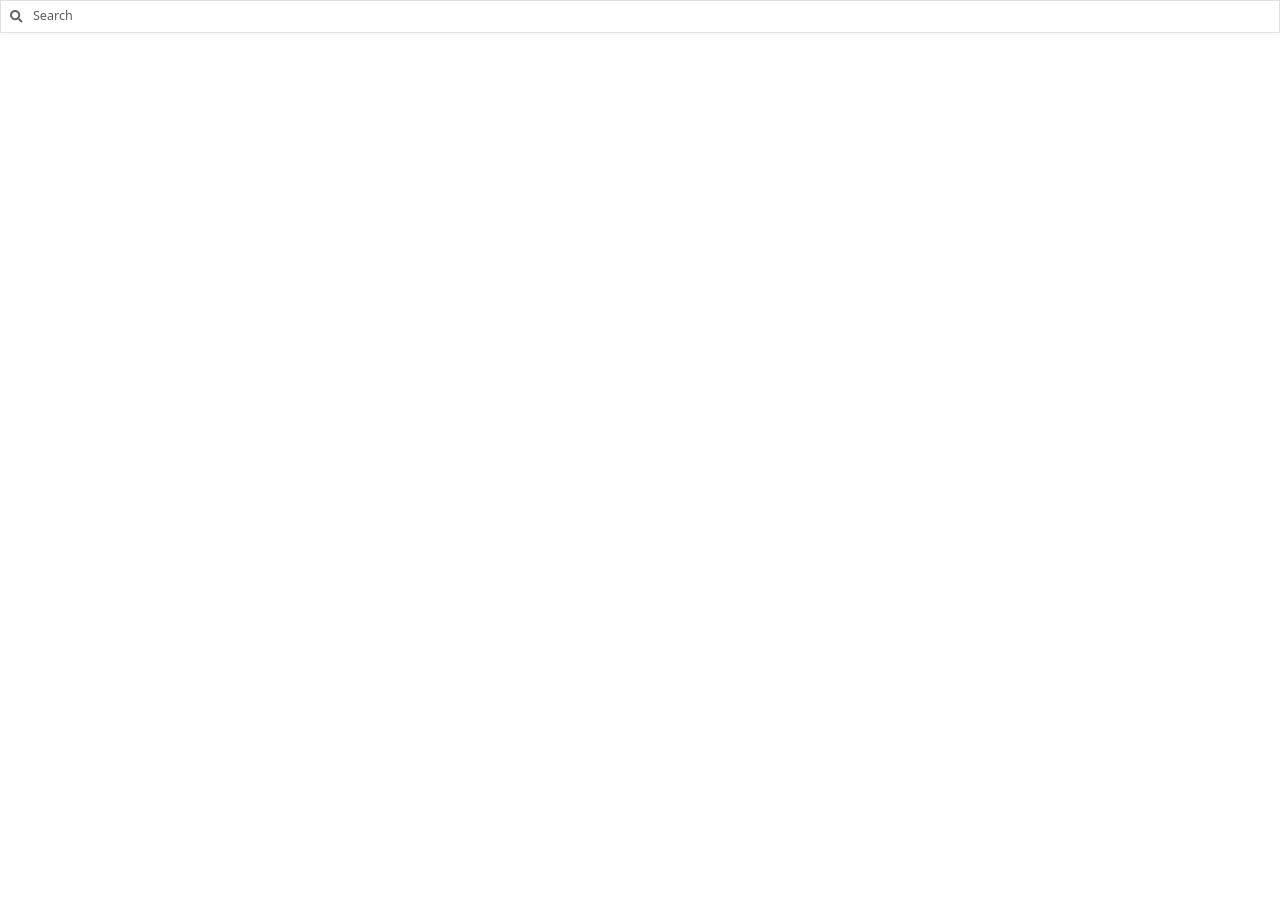
Test: loads twenty profile avatars in one metadata request
The width and height of the screenshot is (1280, 900).
Type "rome" into the search field named "Search profiles, clubs, events, and sources" at coordinates (655, 16), box [32,1,1279,32]
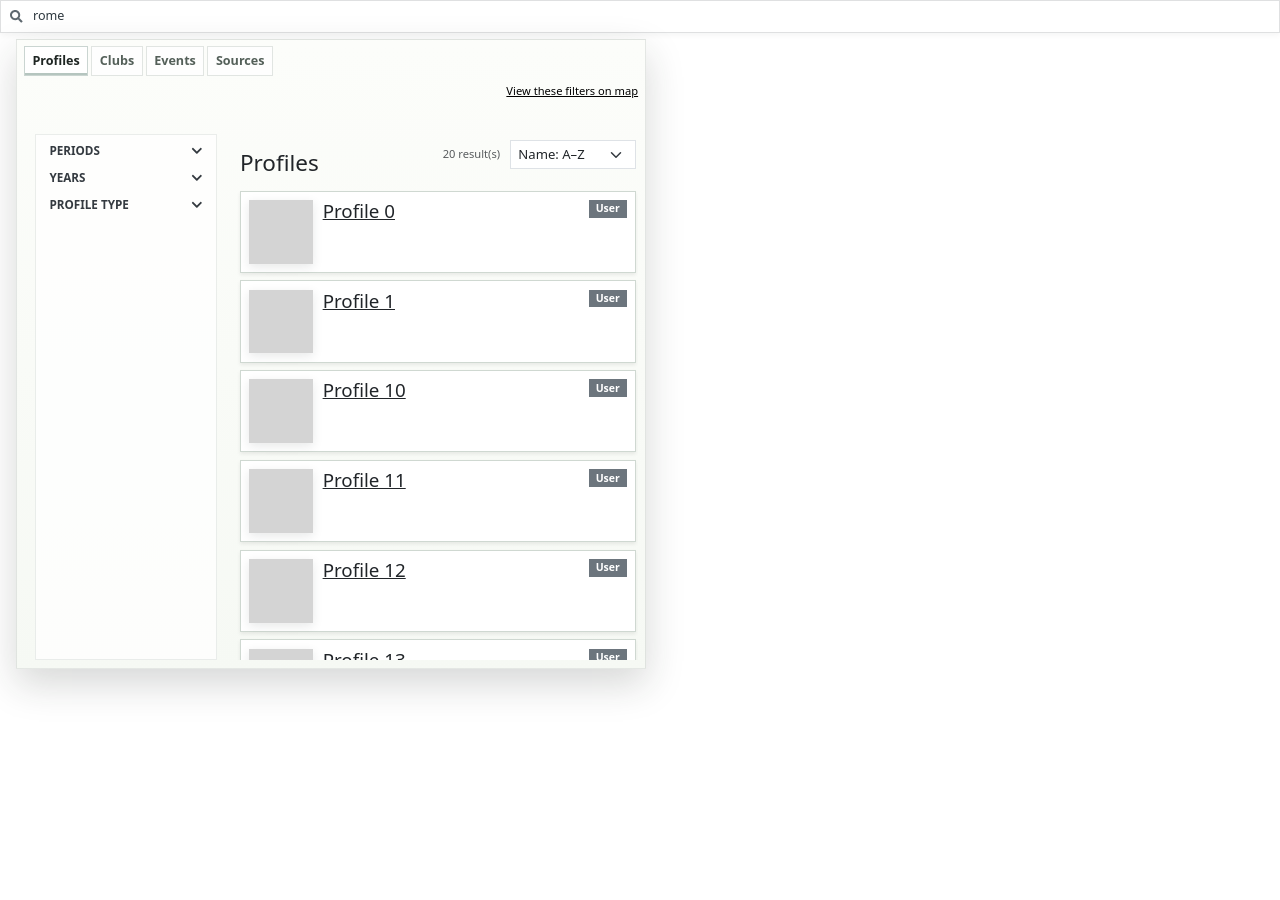
Check: the link "Profile 0" is shown, box [323,198,395,223]
